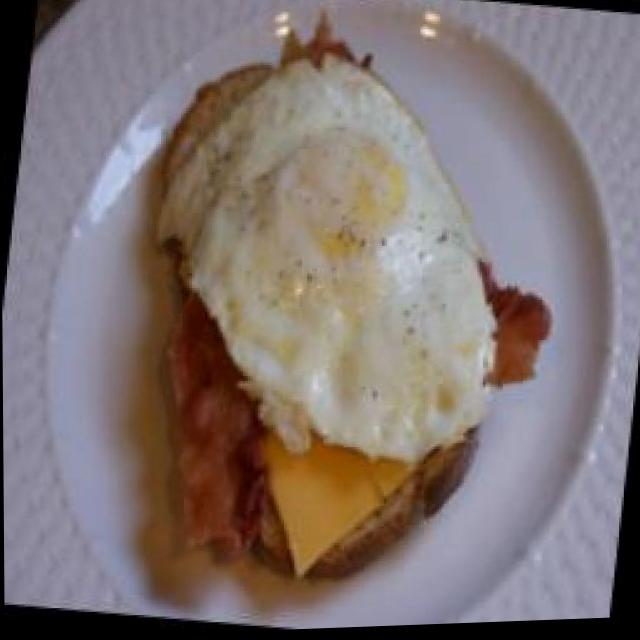fried_eggs: (125, 20, 533, 471)
